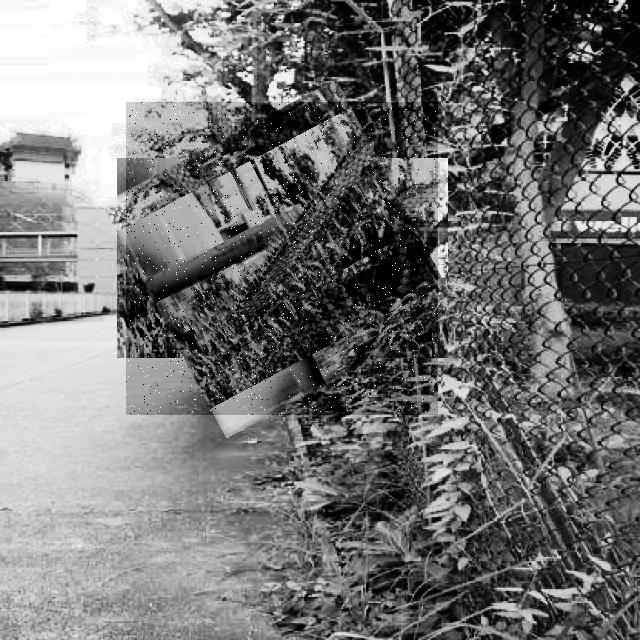anomaly-fence: (126, 102, 438, 415)
